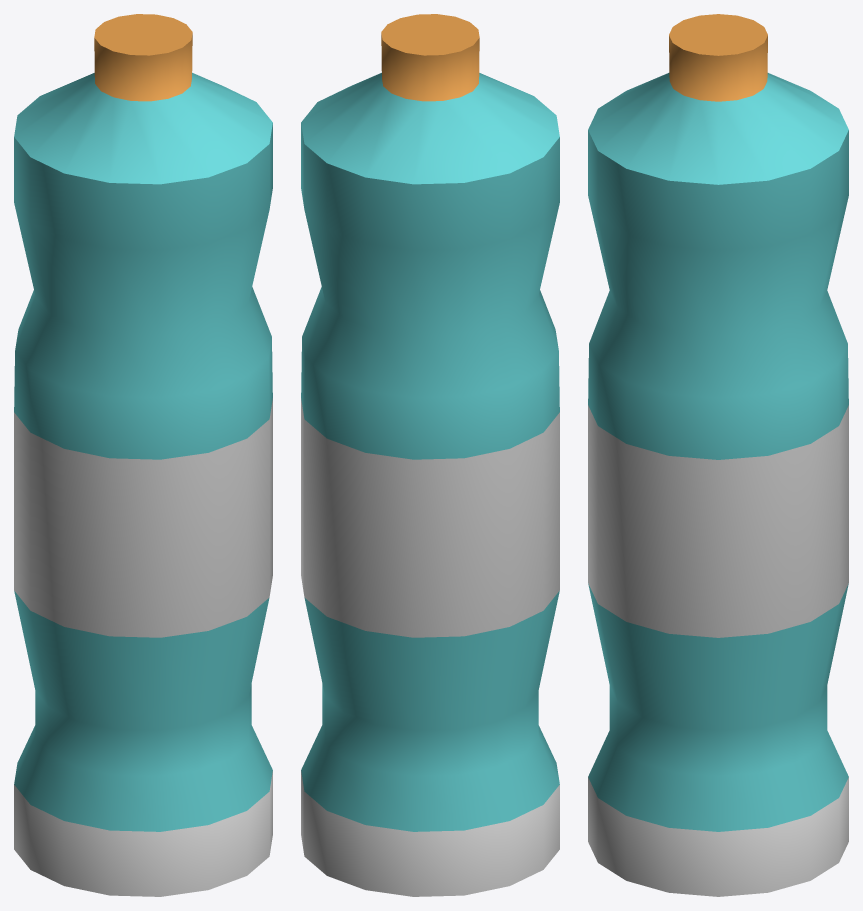
The model's file is bottle.fbx.
The picture shows the model from 3 angles, left to right: view 1: azimuth 30°, elevation 25°; view 2: azimuth 150°, elevation 25°; view 3: azimuth 270°, elevation 25°; orthographic projection.
Parts seen in each view (by area): view 1: Cylinder; view 2: Cylinder; view 3: Cylinder.
Boxes of the visible parts, bbox=[...] form: Cylinder: bbox=[14, 14, 272, 896]; Cylinder: bbox=[301, 14, 559, 896]; Cylinder: bbox=[588, 14, 848, 896].
Bounding box in the file's own units: 200 × 683 × 200.
